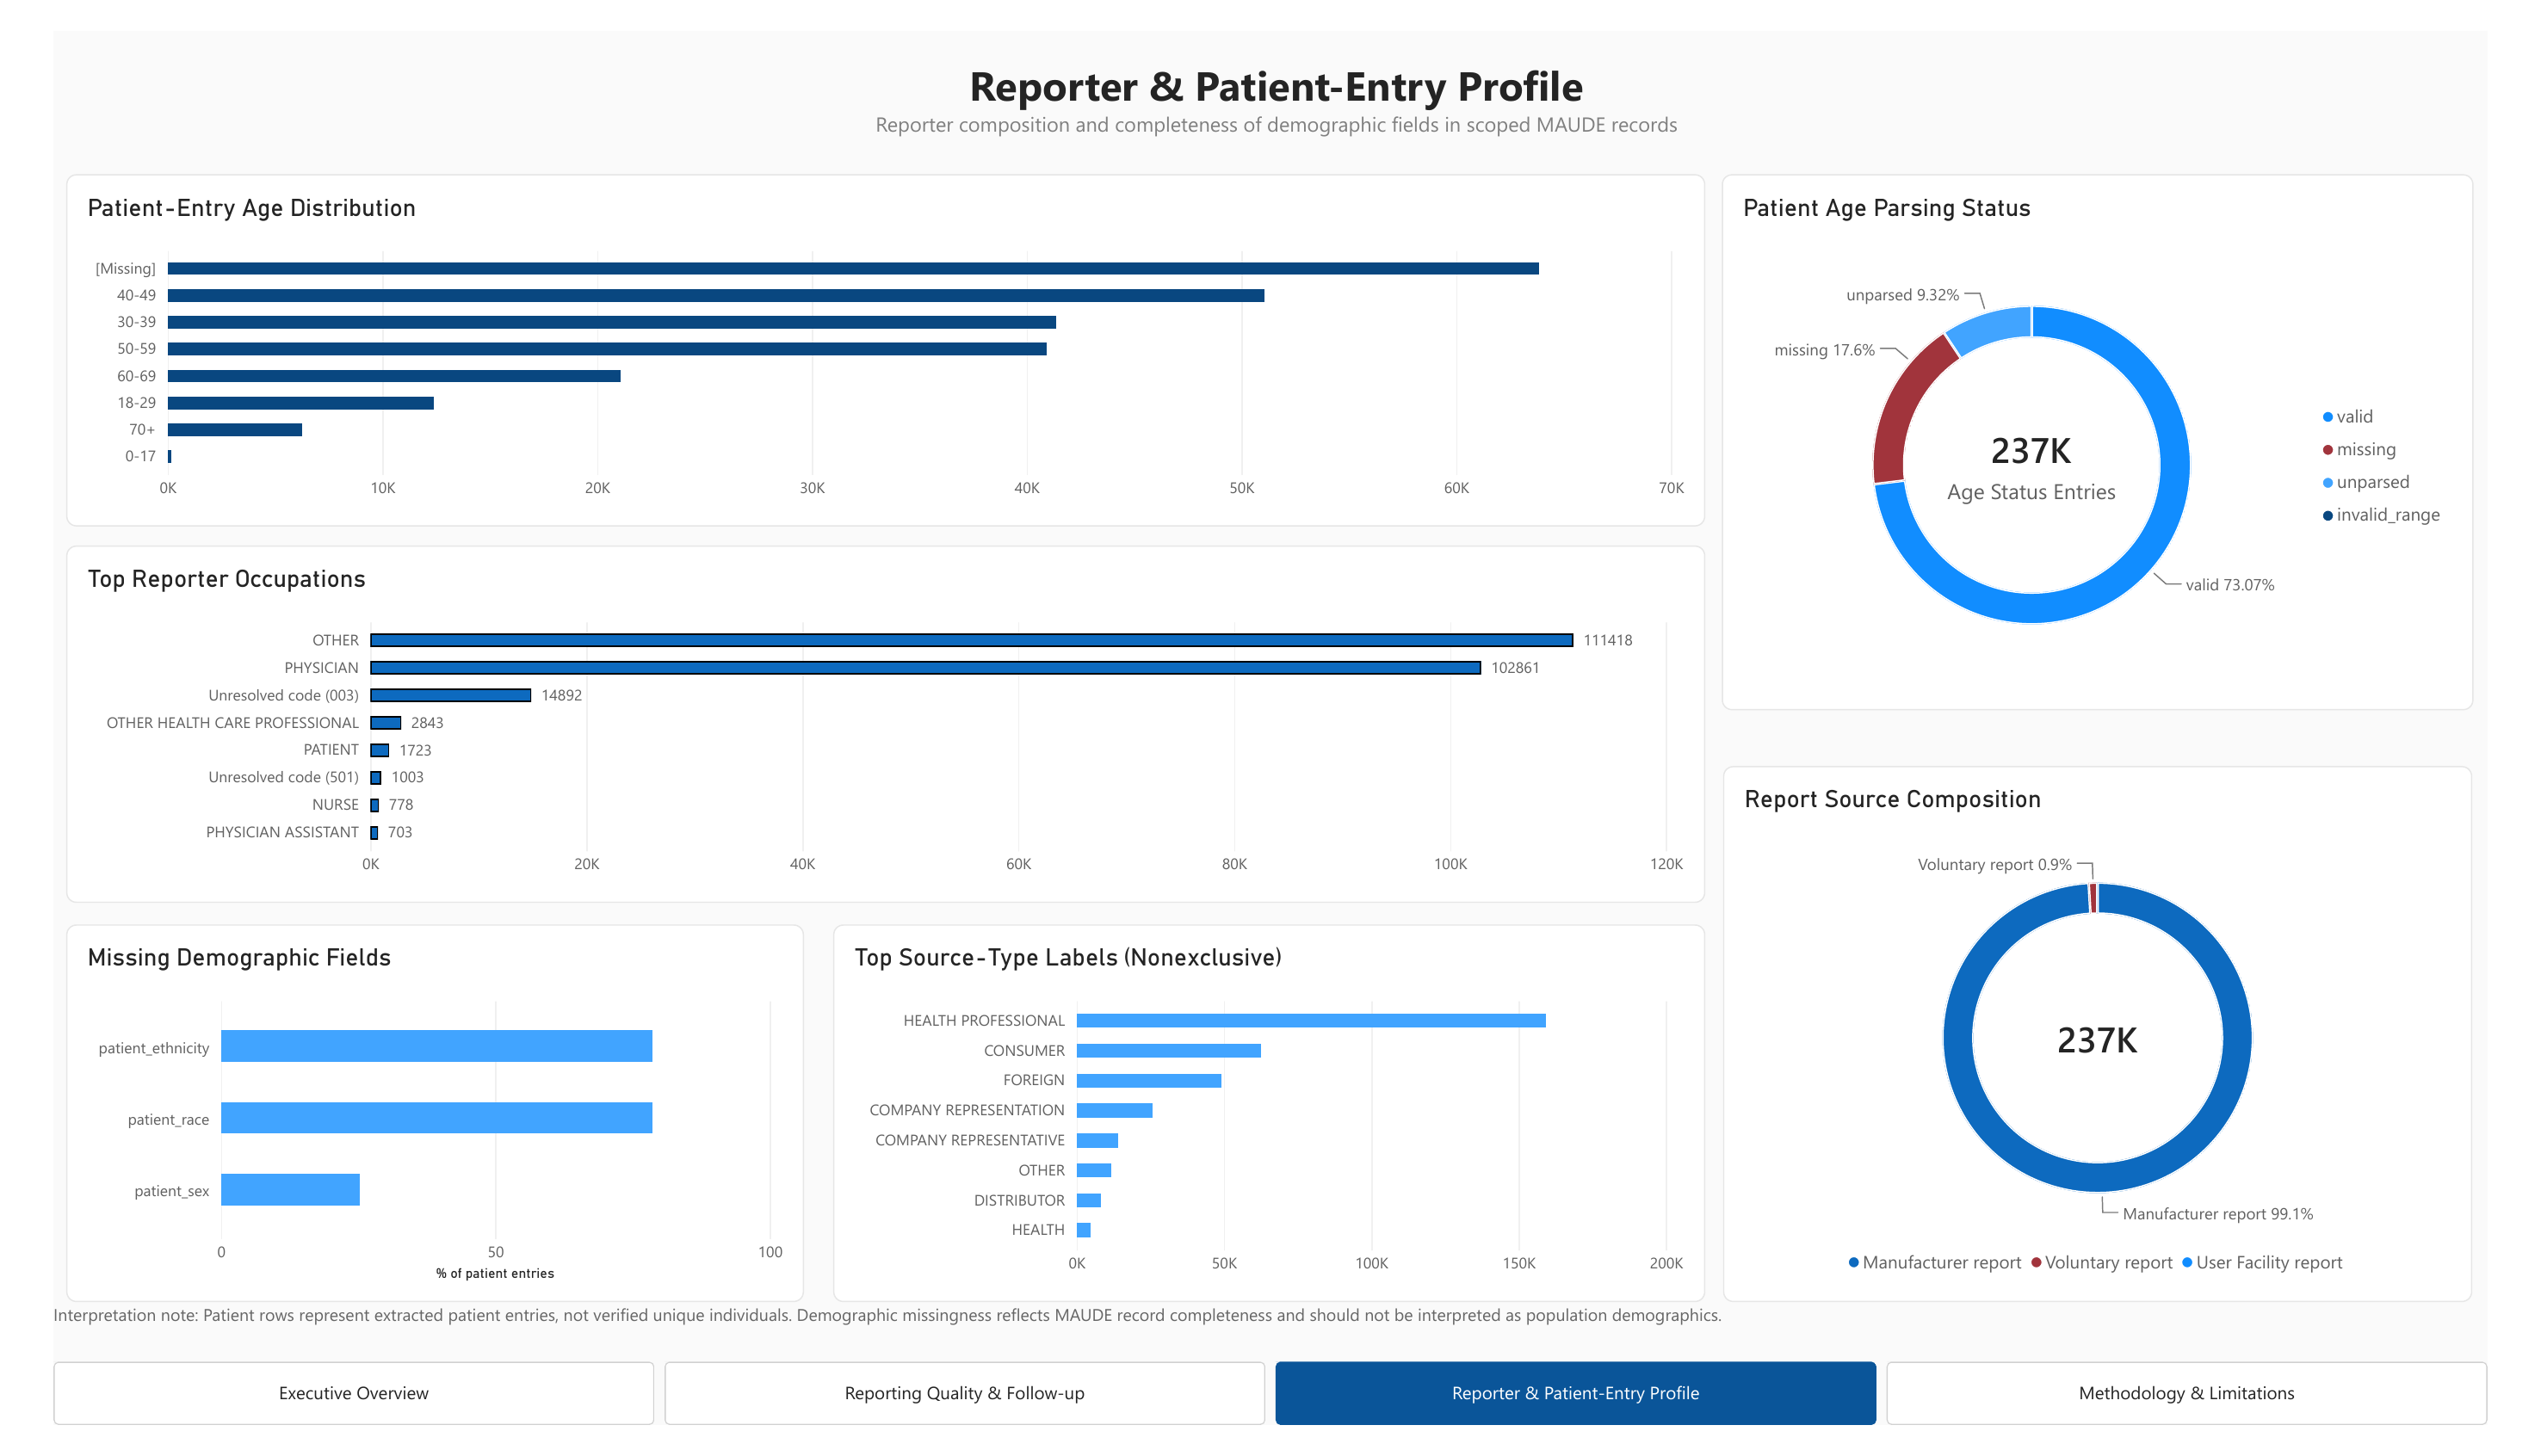

What the dashboard file says about the page in this screenshot:
{"tool":"powerbi","page":{"name":"Reporter & Patient-Entry Profile","canvas":[1920,1080],"ordinal":2},"visuals":[{"type":"textbox","box":[10,0,1910,92.5],"z":0},{"type":"donutChart","title":"Report Source Composition","fields":{"Category":["ReporterSource.ReportSourceCode"],"Y":["Sum(ReporterSource.ReportCount)"]},"box":[1316.7,560,591.7,423.3],"z":1000},{"type":"clusteredBarChart","title":"Top Reporter Occupations","fields":{"Category":["ReporterSource.Reporter Occupation Display"],"Y":["Sum(ReporterSource.ReportCount)"]},"box":[10,386.2,1292.5,281.2],"z":2000},{"type":"clusteredBarChart","title":"Patient-Entry Age Distribution","fields":{"Category":["PatientEntryCharacteristics.Value"],"Y":["_Measures.Age Band Entries"]},"box":[10,92.5,1292.5,278.8],"z":3000},{"type":"textbox","box":[0,983.3,1920,31.2],"z":3500},{"type":"donutChart","title":"Patient Age Parsing Status","fields":{"Category":["PatientEntryCharacteristics.Value"],"Y":["_Measures.Age Status Entries"]},"box":[1316.2,92.5,592.5,423.8],"z":4000},{"type":"clusteredBarChart","title":"Missing Demographic Fields","fields":{"Category":["PatientEntryCharacteristics.Field"],"Y":["_Measures.Demographic Missing %"]},"box":[10,685,581.7,298.3],"z":5000},{"type":"clusteredBarChart","title":"Top Source-Type Labels (Nonexclusive)","fields":{"Category":["SourceType.SourceType"],"Y":["Sum(SourceType.ReportCount)"]},"box":[615,685,688.3,298.3],"z":6000},{"type":"pageNavigator","box":[0,1030,1920,50],"z":6001}]}

Visuals, with their boxes in screenshot pixels (x1, y1, x2, y2), scaled from the page's 1920x1080 canvas onto the 2541x1456 screenshot:
textbox: bbox=[13, 0, 2540, 125]
"Report Source Composition" donutChart: bbox=[1742, 755, 2526, 1326]
"Top Reporter Occupations" clusteredBarChart: bbox=[13, 521, 1724, 900]
"Patient-Entry Age Distribution" clusteredBarChart: bbox=[13, 125, 1724, 501]
textbox: bbox=[0, 1326, 2540, 1367]
"Patient Age Parsing Status" donutChart: bbox=[1742, 125, 2526, 696]
"Missing Demographic Fields" clusteredBarChart: bbox=[13, 923, 783, 1326]
"Top Source-Type Labels (Nonexclusive)" clusteredBarChart: bbox=[814, 923, 1725, 1326]
pageNavigator: bbox=[0, 1389, 2540, 1455]
